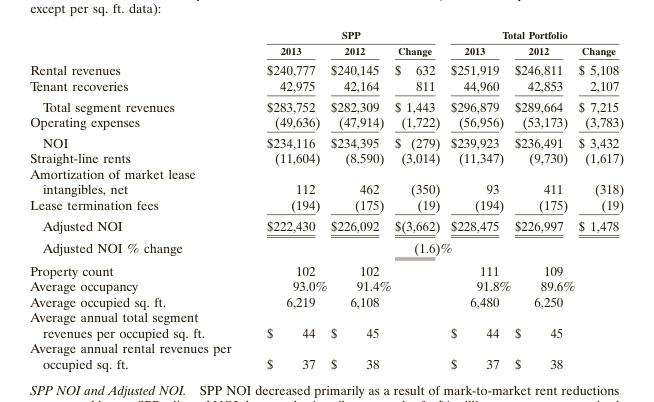table: (29, 28, 623, 371)
table column: (29, 28, 248, 371), (248, 28, 328, 371), (328, 28, 392, 371), (512, 28, 576, 371), (450, 28, 512, 371), (392, 28, 450, 371), (576, 28, 623, 371)
table column header: (29, 28, 623, 59)
table row: (29, 339, 623, 371), (29, 165, 623, 196), (29, 308, 623, 339), (29, 214, 623, 236), (29, 236, 623, 258), (29, 131, 623, 150), (29, 258, 623, 277), (29, 59, 623, 77), (29, 77, 623, 95), (29, 95, 623, 113), (29, 113, 623, 131), (29, 196, 623, 214), (29, 42, 623, 59), (29, 277, 623, 293), (29, 150, 623, 165), (29, 293, 623, 308), (29, 28, 623, 42)
table spanning cell: (248, 28, 450, 42), (450, 28, 623, 42)
